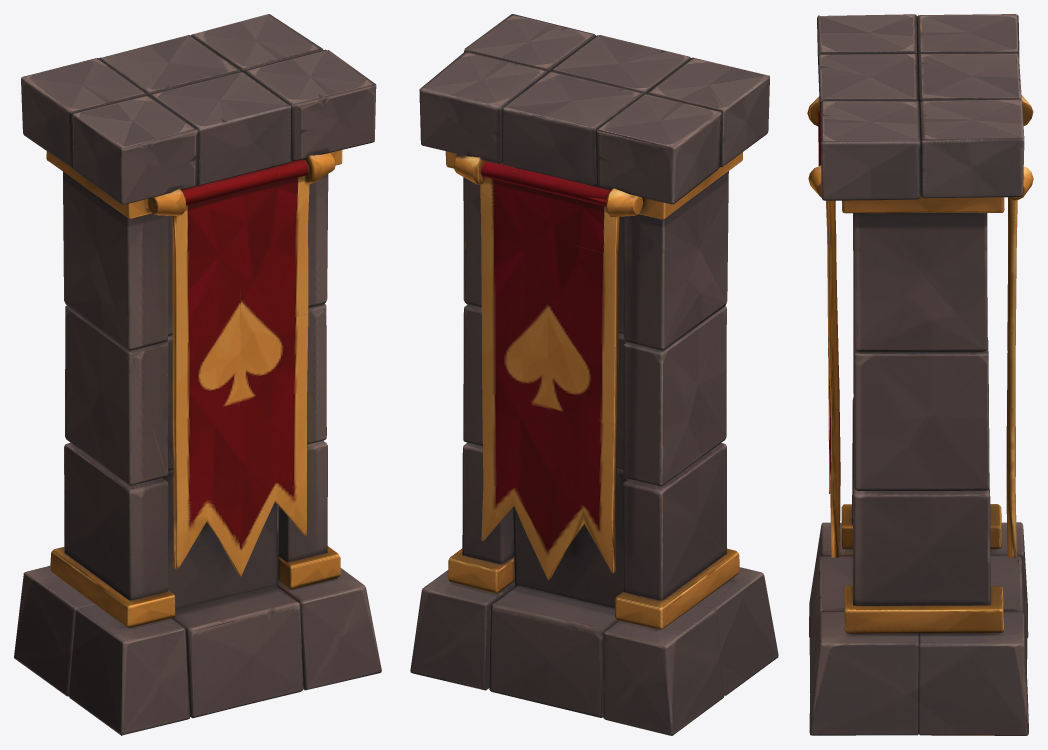
File: Meshy_AI_model.fbx
3 renders of one model, left to right at view 1: azimuth 30°, elevation 25°; view 2: azimuth 150°, elevation 25°; view 3: azimuth 270°, elevation 25°, orthographic.
Parts seen in each view (by area): view 1: Mesh_0; view 2: Mesh_0; view 3: Mesh_0.
Boxes of the visible parts, x1,y1,x2,y2 form: Mesh_0: (14,14,381,735); Mesh_0: (410,14,778,735); Mesh_0: (807,14,1033,735).
Size of the model in its own units: 47.12 by 100 by 34.56.
1 material, 1 textured.
